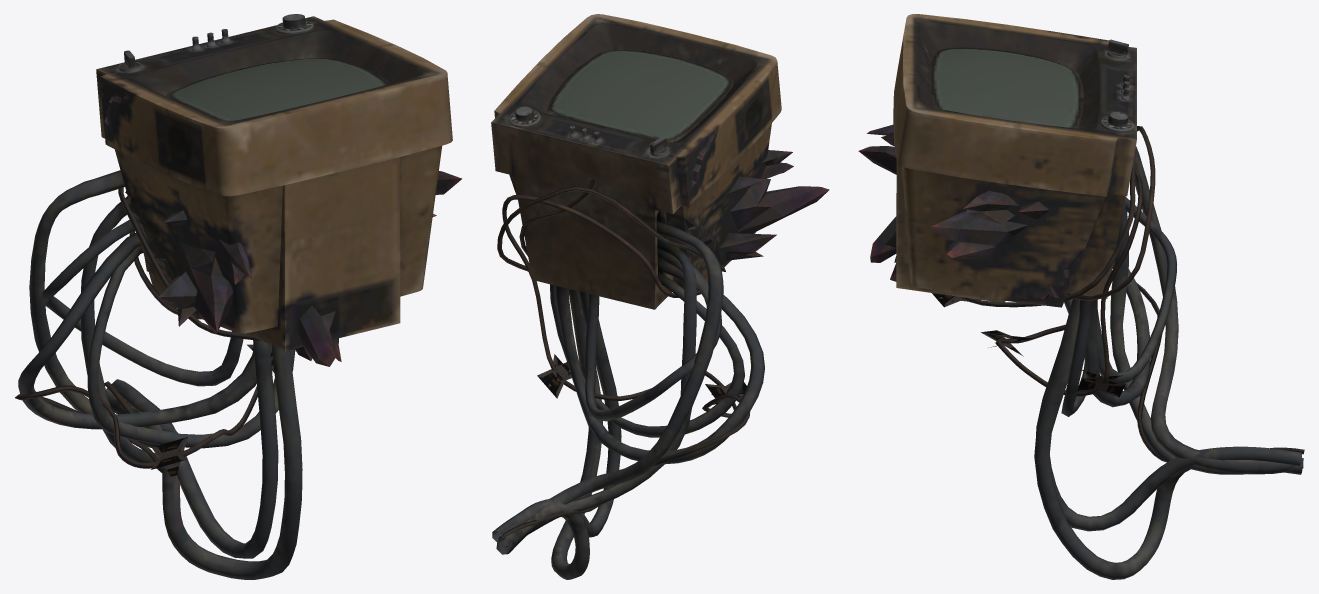
3 renders of one model, left to right at view 1: azimuth 30°, elevation 25°; view 2: azimuth 150°, elevation 25°; view 3: azimuth 270°, elevation 25°, orthographic. The views are drawn at different scales.
Parts seen in each view (by area): view 1: set_0_group_0; view 2: set_0_group_0; view 3: set_0_group_0.
Boxes of the visible parts, box(x1,y1,x2,y2) form: set_0_group_0: box(15, 14, 462, 579); set_0_group_0: box(491, 14, 829, 579); set_0_group_0: box(858, 14, 1304, 579).
Bounding box in the file's own units: 59.68 × 95.25 × 76.59.
